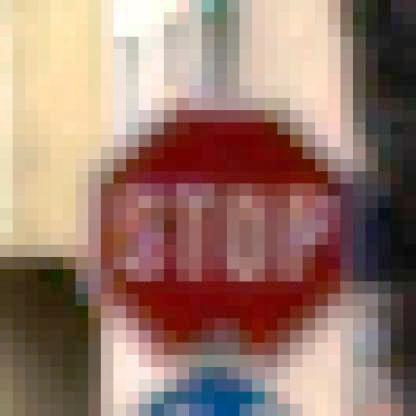Stop Sign: (82, 92, 369, 354)
